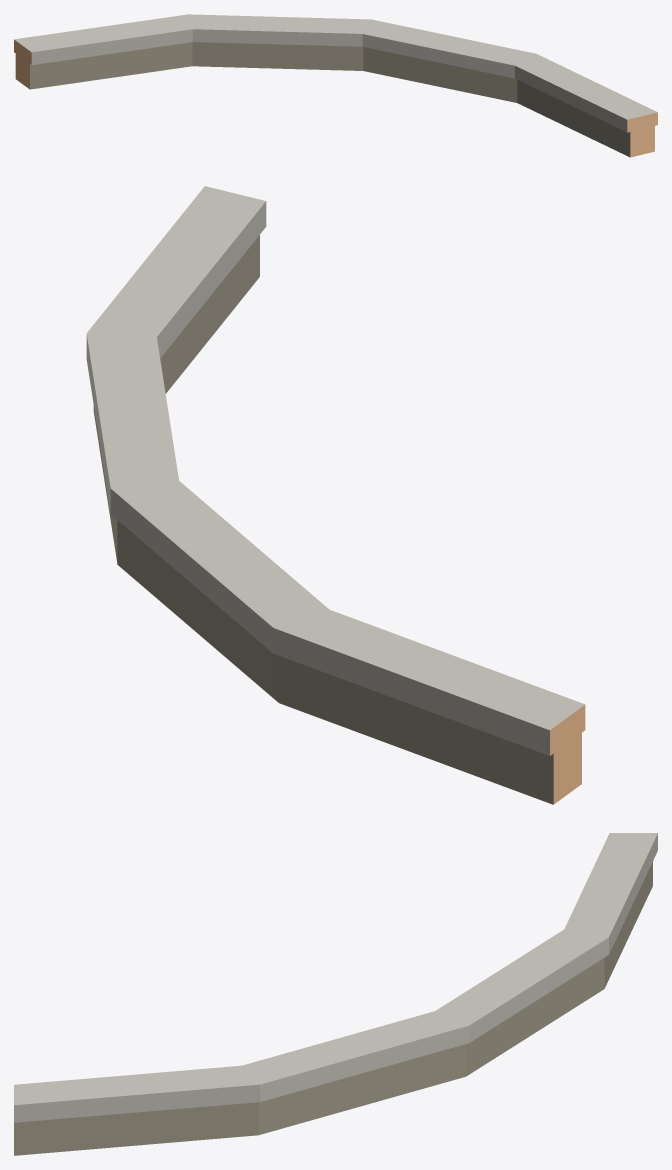
File: Tiered_Retaining_Wall_Flat_Curve_4x4_Top.glb
3 views of the same model, one above another, from view 1: azimuth 30°, elevation 25°; view 2: azimuth 150°, elevation 25°; view 3: azimuth 270°, elevation 25° (orthographic). The views are drawn at different scales.
Visible parts, largest first — view 1: Tiered_Retaining_Wall_Flat_Curve_4x4_Top; view 2: Tiered_Retaining_Wall_Flat_Curve_4x4_Top; view 3: Tiered_Retaining_Wall_Flat_Curve_4x4_Top.
Part boxes in pixels (x1,y1,x2,y2): Tiered_Retaining_Wall_Flat_Curve_4x4_Top: (14,14,657,157); Tiered_Retaining_Wall_Flat_Curve_4x4_Top: (86,186,585,804); Tiered_Retaining_Wall_Flat_Curve_4x4_Top: (14,833,657,1155).
Bounding box in the file's own units: 416 × 37.5 × 416.
